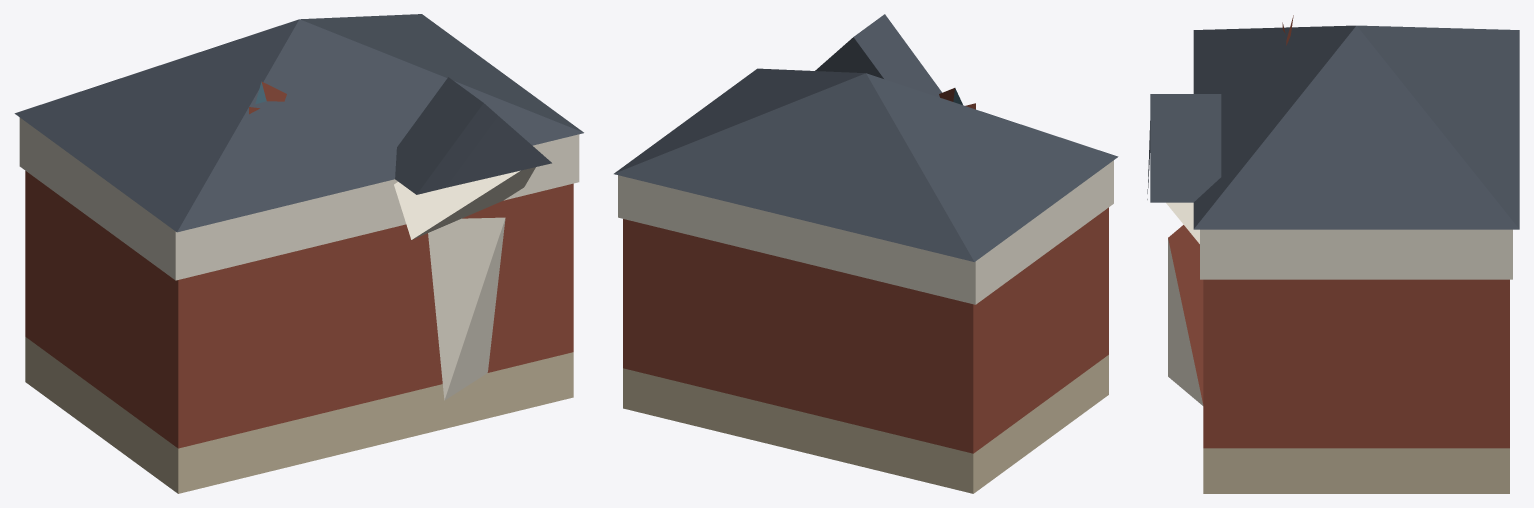
The model's file is moco-museum.lod2.glb.
3 renders of one model, left to right at view 1: azimuth 30°, elevation 25°; view 2: azimuth 150°, elevation 25°; view 3: azimuth 270°, elevation 25°, orthographic. The views are drawn at different scales.
Parts seen in each view (by area): view 1: lod2; view 2: lod2; view 3: lod2.
Boxes of the visible parts, box(x1,y1,x2,y2) form: lod2: box(14, 14, 583, 493); lod2: box(614, 14, 1118, 493); lod2: box(1147, 15, 1519, 493).
Bounding box in the file's own units: 22.56 × 19.6 × 17.79.
